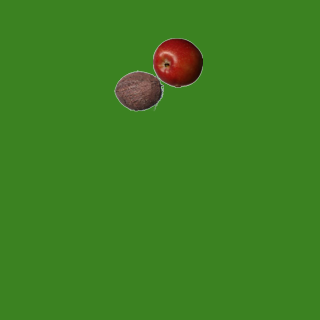Apple Braeburn: (152, 37, 202, 87)
Cocos: (113, 65, 163, 115)
